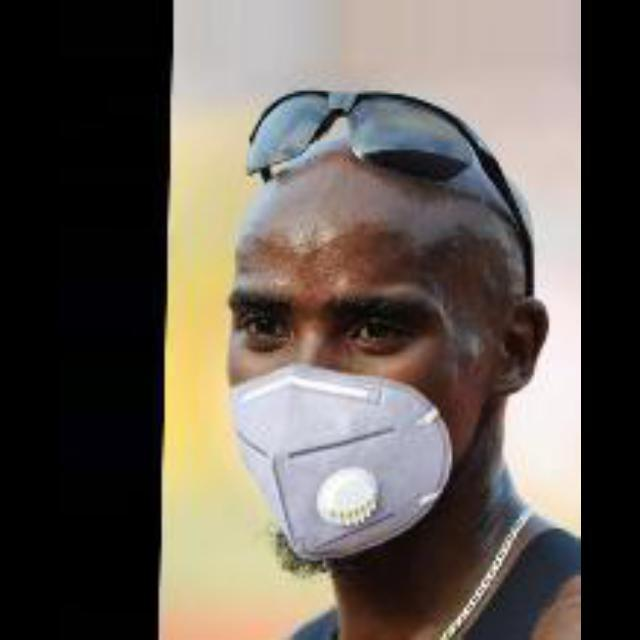suspicion: (204, 94, 554, 578)
